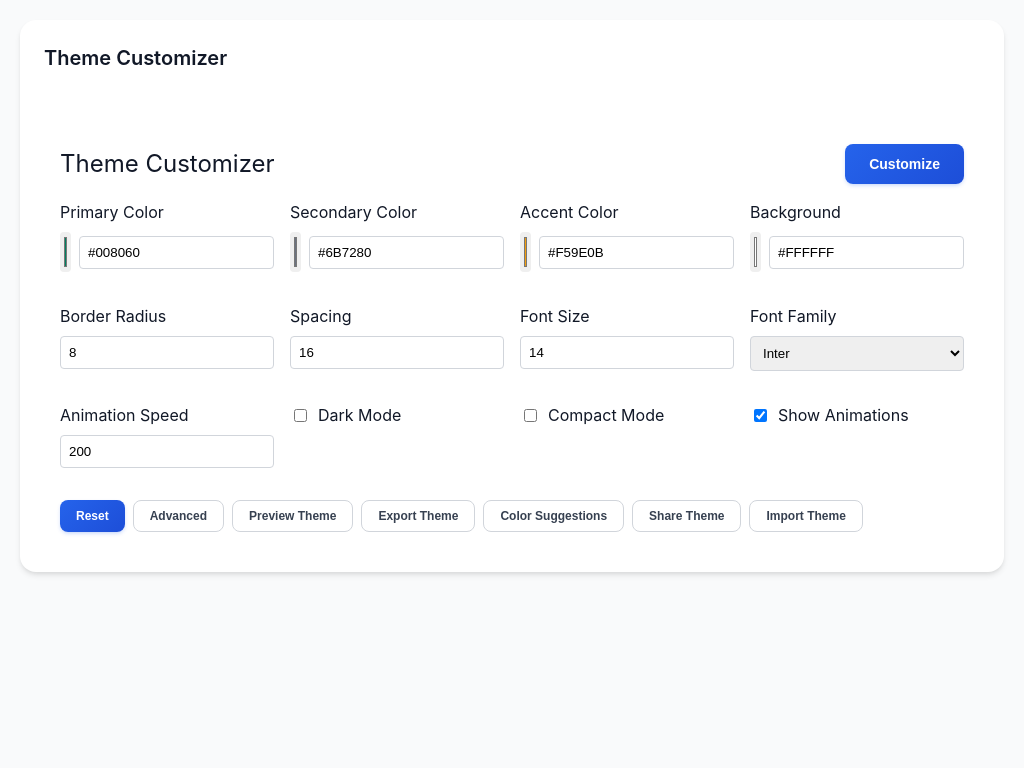
Test: ThemeCustomizer › should show CSS validation error for invalid CSS
The width and height of the screenshot is (1024, 768).
Step 1. Click the button "Advanced" → (178, 516), box [133,500,224,532]
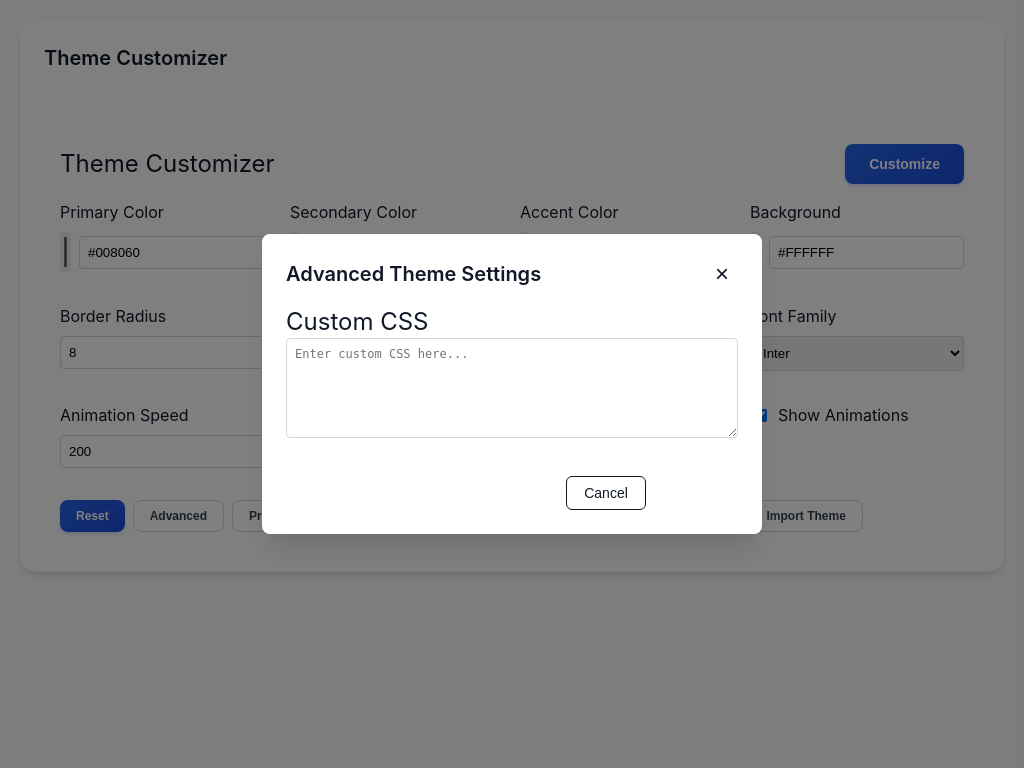
Step 2. Type "invalid css" into the text box with placeholder "Enter custom CSS here..." → (512, 388), box [286,338,738,438]
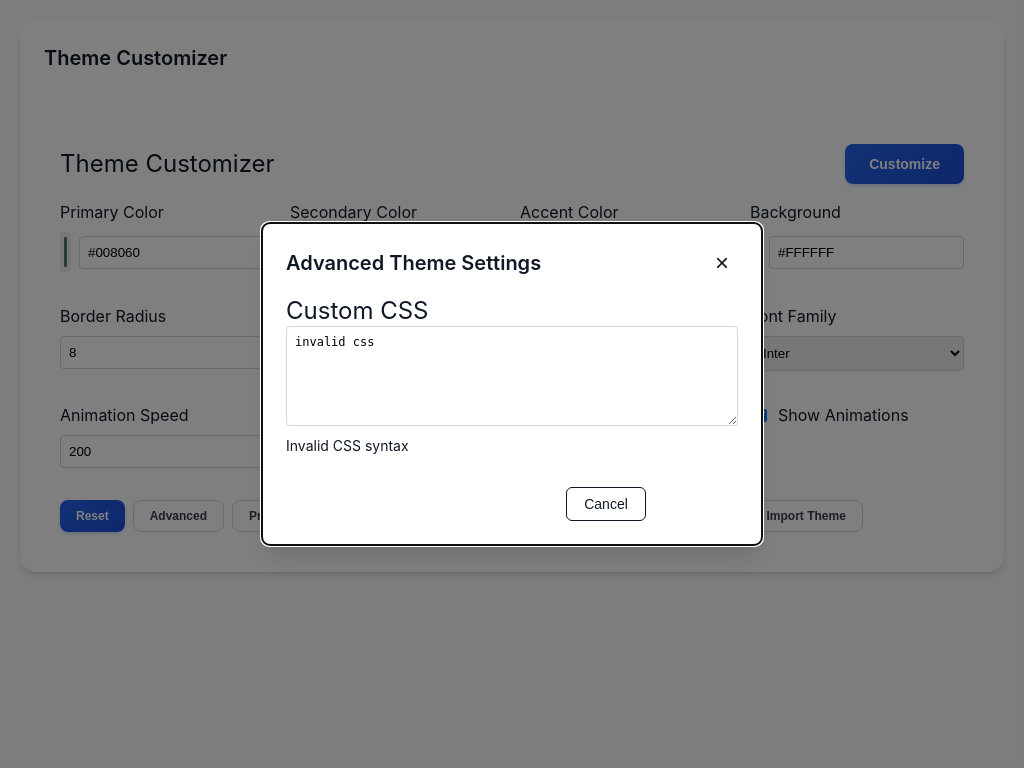
Result: the text "Invalid CSS syntax" is shown at [286,437,409,454]
